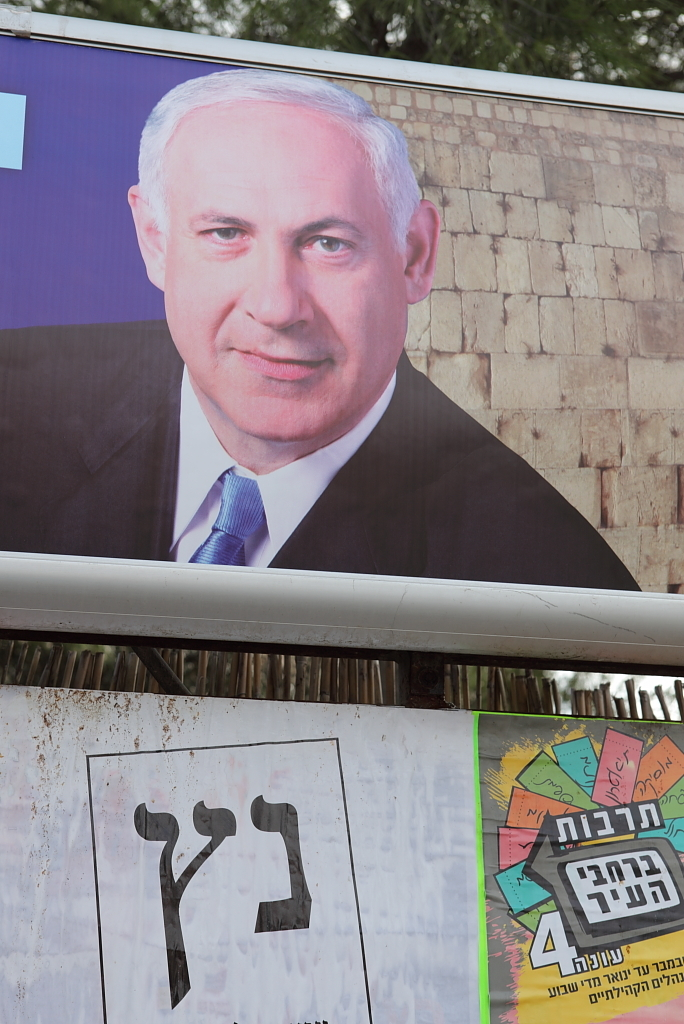Human-face: (160, 102, 409, 439)
